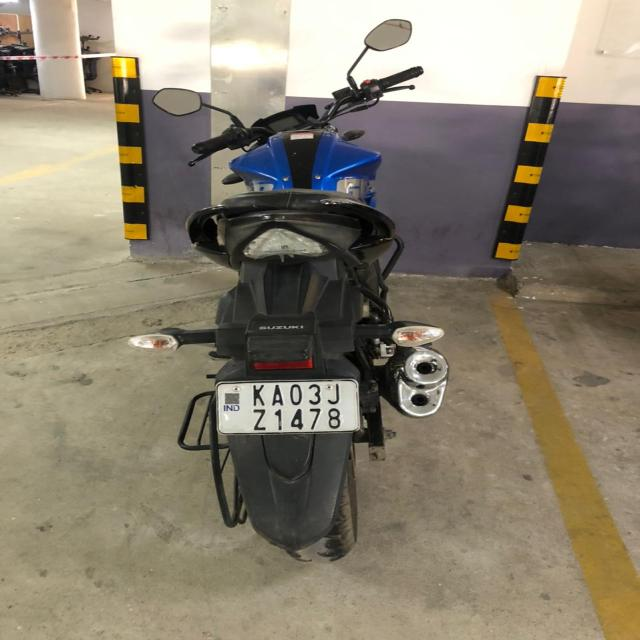number plate: (214, 378, 360, 435)
